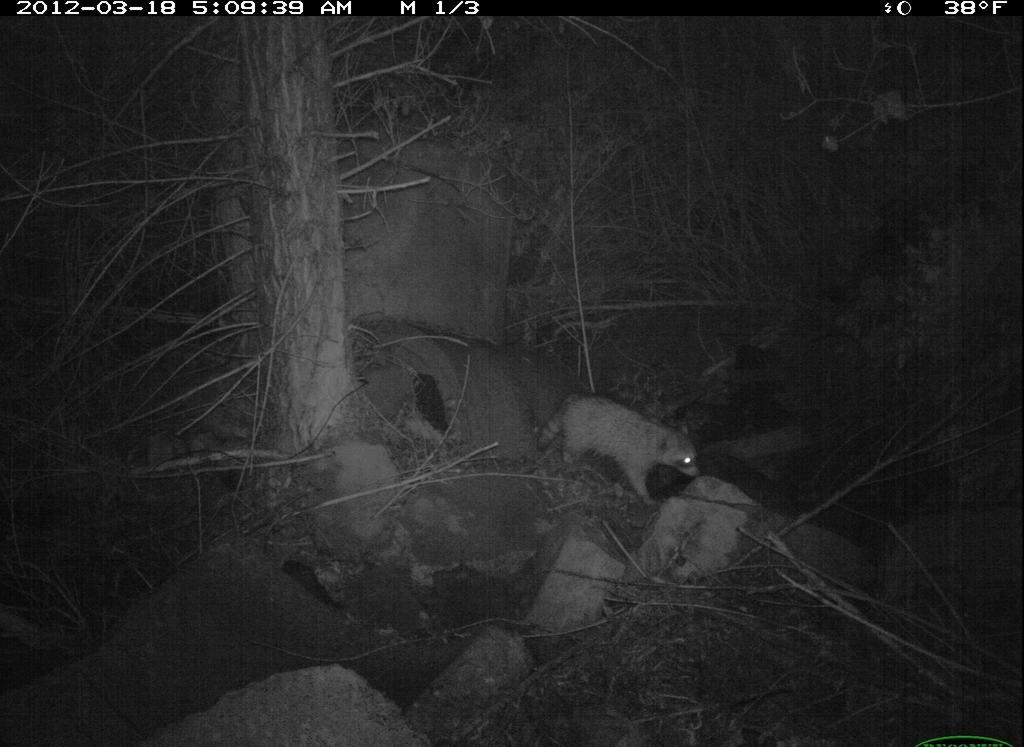raccoon: (539, 383, 710, 525)
